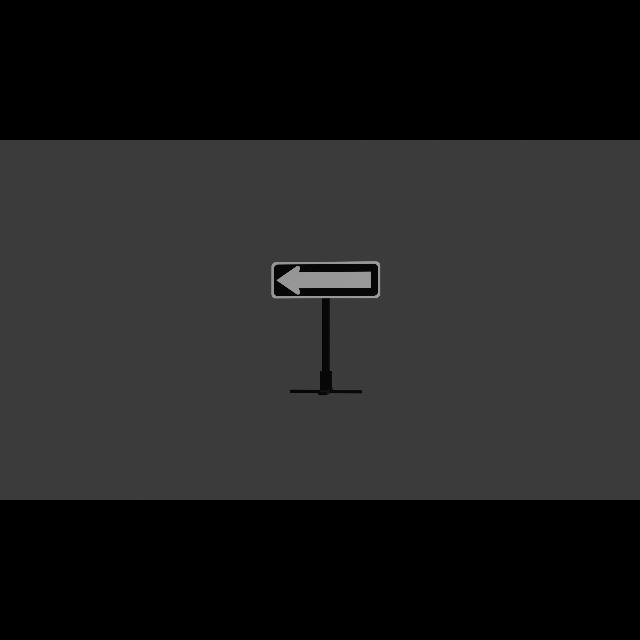sign_oneway_left: (275, 264, 378, 298)
